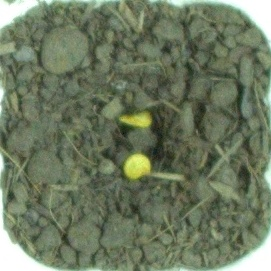chilli seed: (122, 152, 152, 180), (117, 107, 154, 129)
